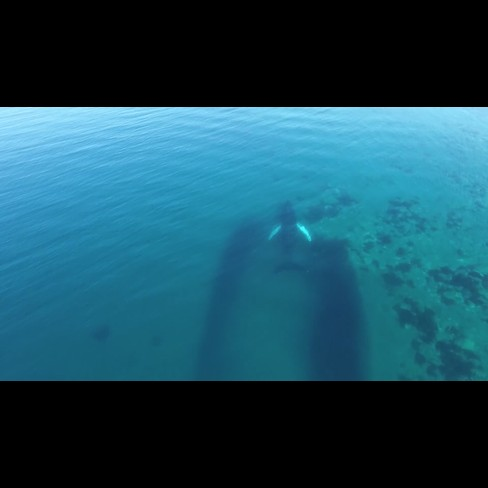hump: (264, 195, 314, 282)
